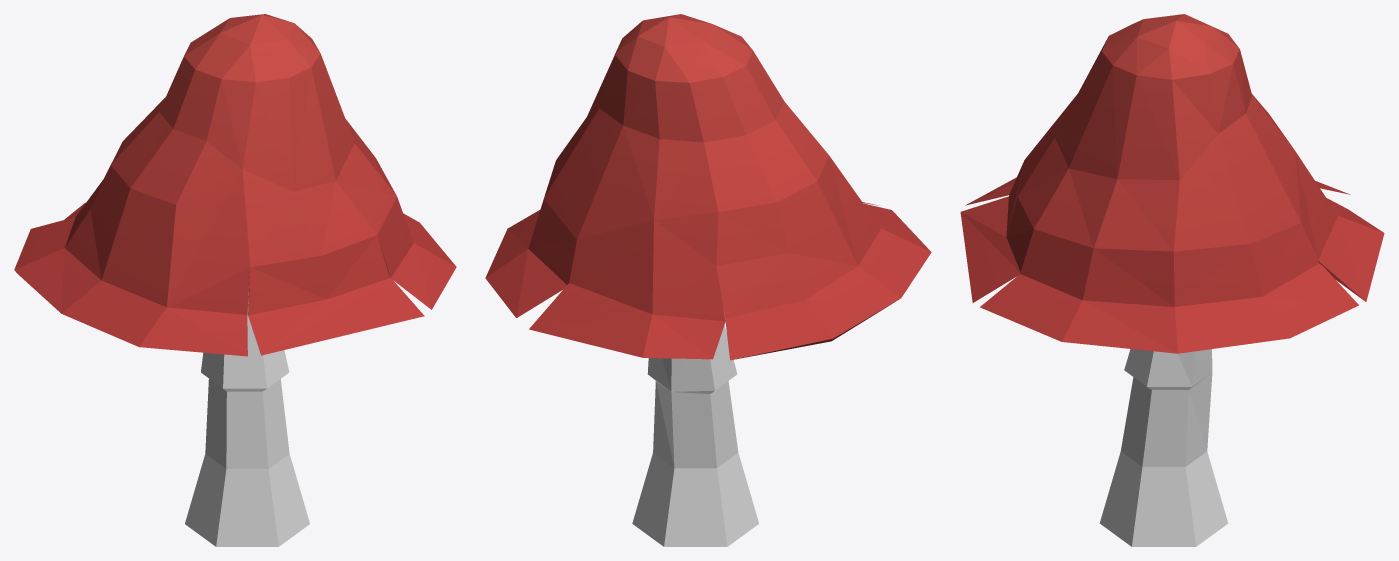
Rendered from Mushroom_06.fbx.
3 views of the same model, side by side, from view 1: azimuth 30°, elevation 25°; view 2: azimuth 150°, elevation 25°; view 3: azimuth 270°, elevation 25° (orthographic). The views are drawn at different scales.
Visible parts, largest first — view 1: Mushroom_06; view 2: Mushroom_06; view 3: Mushroom_06.
Part boxes in pixels (left/top/right/bottom): Mushroom_06: left=14, top=14, right=456, bottom=546; Mushroom_06: left=485, top=14, right=931, bottom=546; Mushroom_06: left=960, top=14, right=1384, bottom=546.
Bounding box in the file's own units: 0.3436 × 0.4392 × 0.3291.
